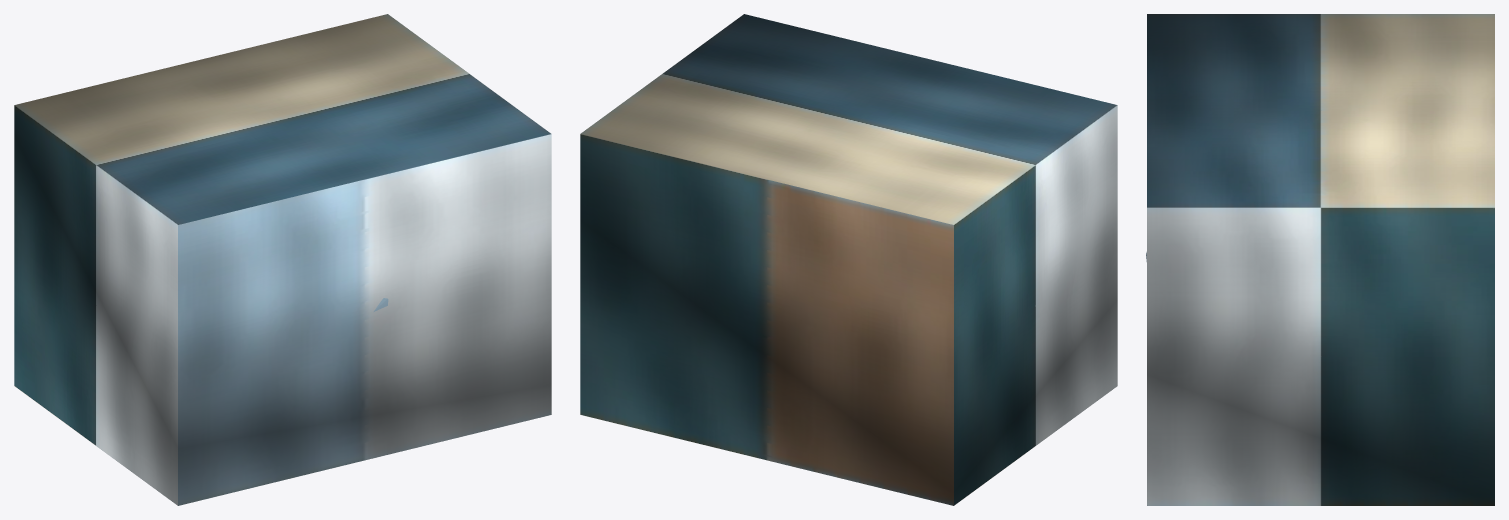
File: snowdrift.glb
3 views of the same model, side by side, from view 1: azimuth 30°, elevation 25°; view 2: azimuth 150°, elevation 25°; view 3: azimuth 270°, elevation 25° (orthographic). The views are drawn at different scales.
Parts seen in each view (by area): view 1: col; view 2: col; view 3: col.
Boxes of the visible parts, x1,y1,x2,y2 form: col: (14, 14, 551, 505); col: (580, 14, 1117, 505); col: (1147, 14, 1494, 505).
Bounding box in the file's own units: 2.19 × 1.57 × 1.67.
Materials: 1 (1 with a texture image).
